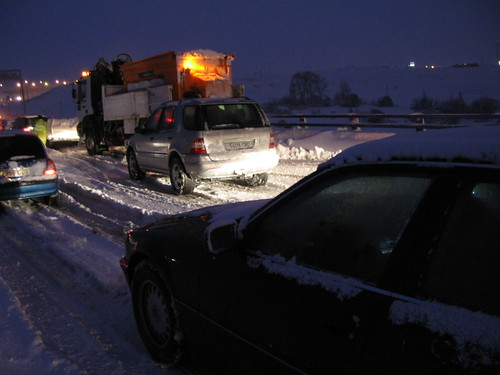car: (130, 126, 500, 375), (116, 97, 272, 194), (1, 132, 60, 211)
sky: (1, 1, 500, 66)
truck: (71, 44, 234, 158)
